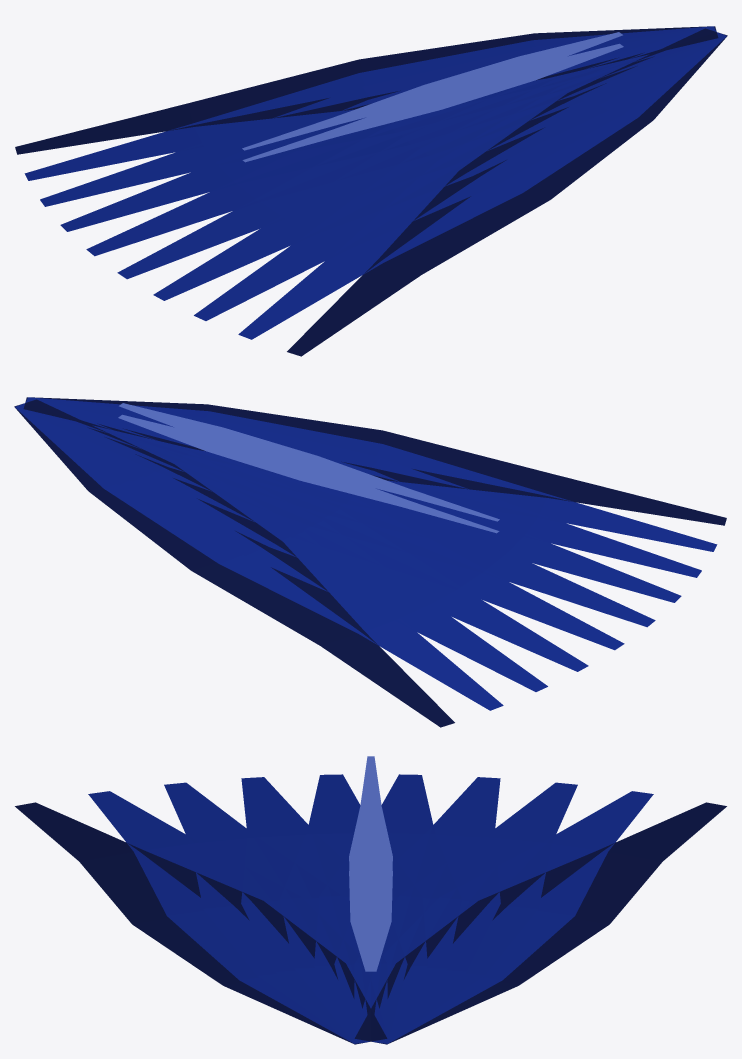
The model's file is sb_tail.glb.
The picture shows the model from 3 angles, top to bottom: view 1: azimuth 30°, elevation 25°; view 2: azimuth 150°, elevation 25°; view 3: azimuth 270°, elevation 25°; orthographic projection. The views are drawn at different scales.
Visible parts, largest first — view 1: teil1, teil0, teil2; view 2: teil1, teil0, teil2; view 3: teil1, teil0, teil2.
Part boxes in pixels (x1=…): teil1: x1=24, y1=26, x2=726, y2=339; teil0: x1=15, y1=26, x2=727, y2=356; teil2: x1=242, y1=32, x2=623, y2=162; teil1: x1=15, y1=397, x2=717, y2=710; teil0: x1=14, y1=397, x2=726, y2=727; teil2: x1=118, y1=403, x2=499, y2=533; teil1: x1=88, y1=774, x2=653, y2=1043; teil0: x1=15, y1=802, x2=726, y2=1044; teil2: x1=349, y1=756, x2=392, y2=971.
Bounding box in the file's own units: 0.1302 × 0.0212 × 0.1049.
